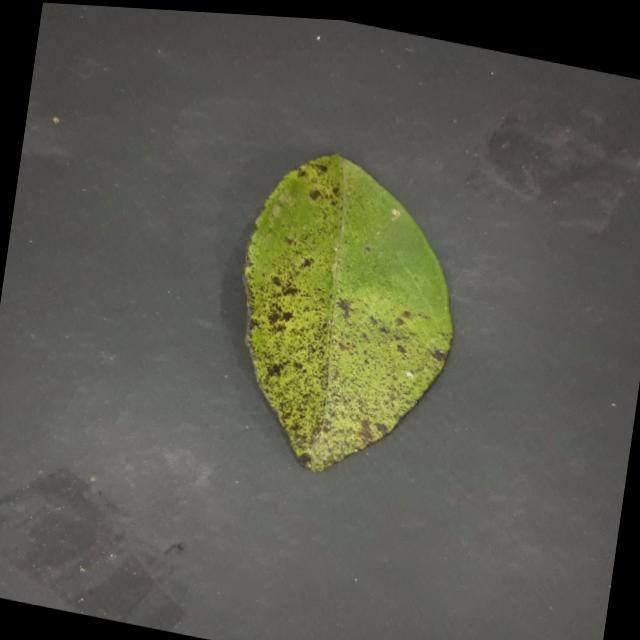greasy_spot: (243, 155, 451, 471)
